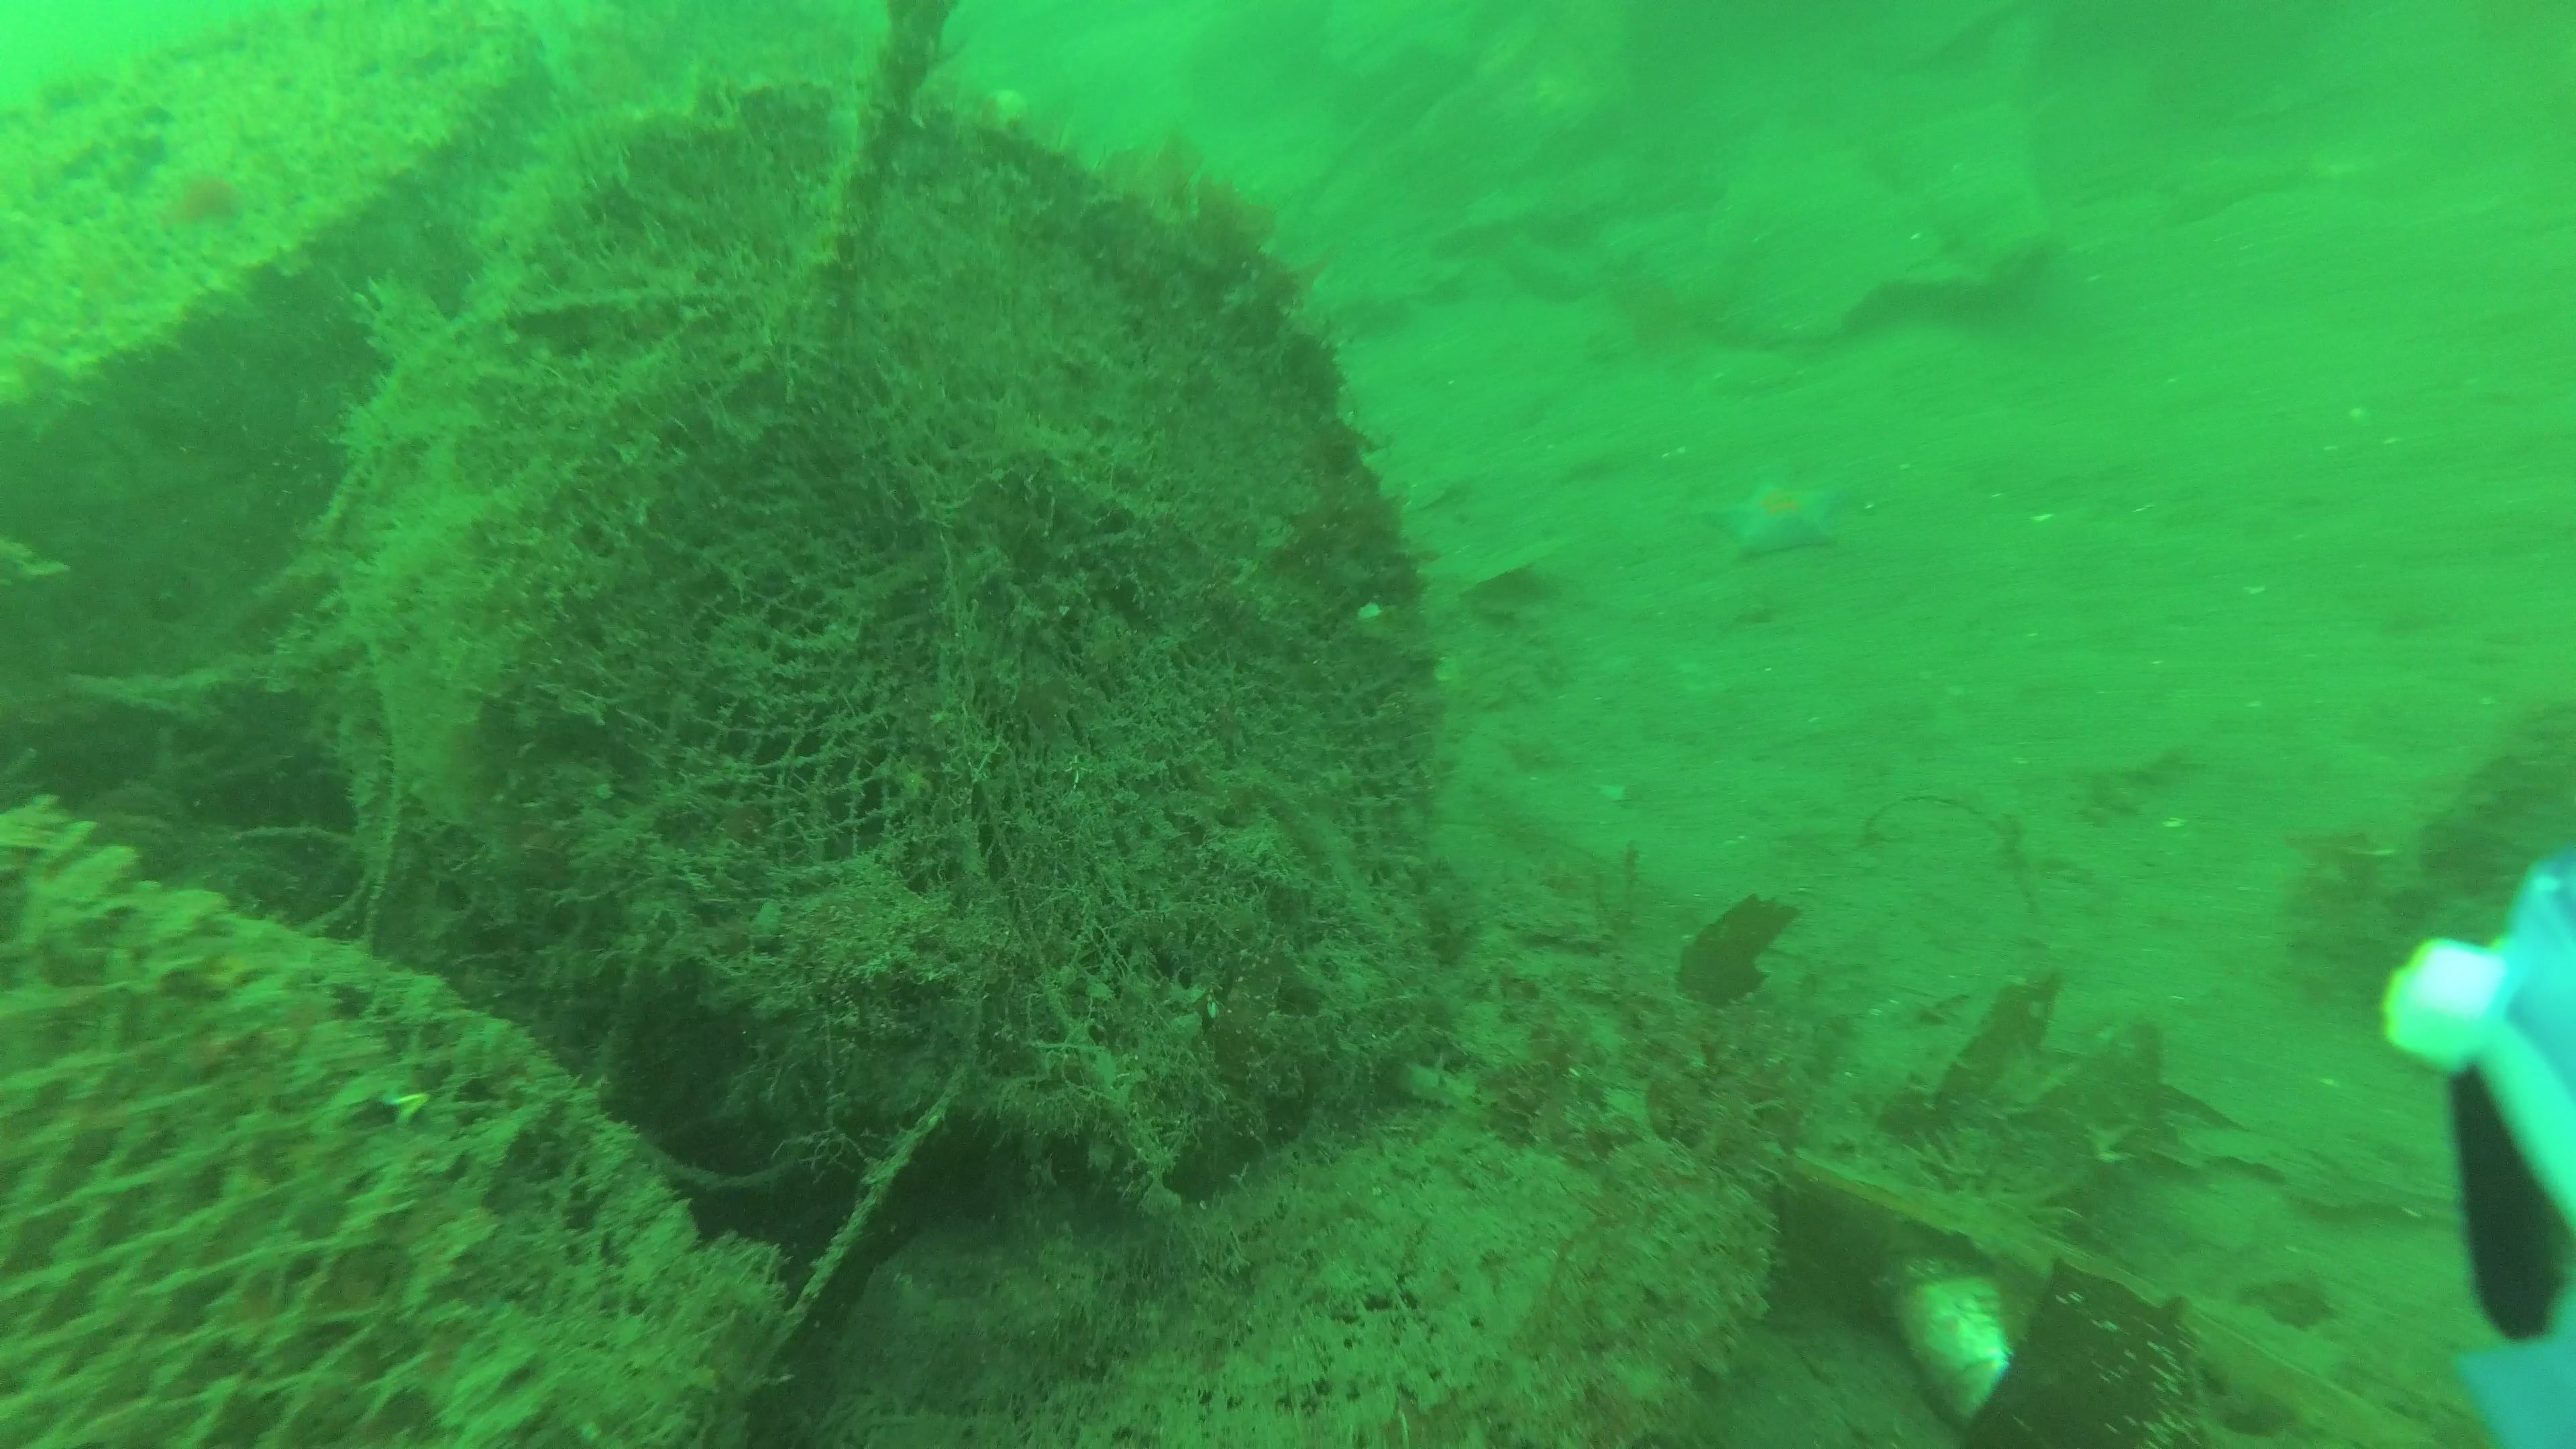starfish: (1702, 476, 1840, 561)
